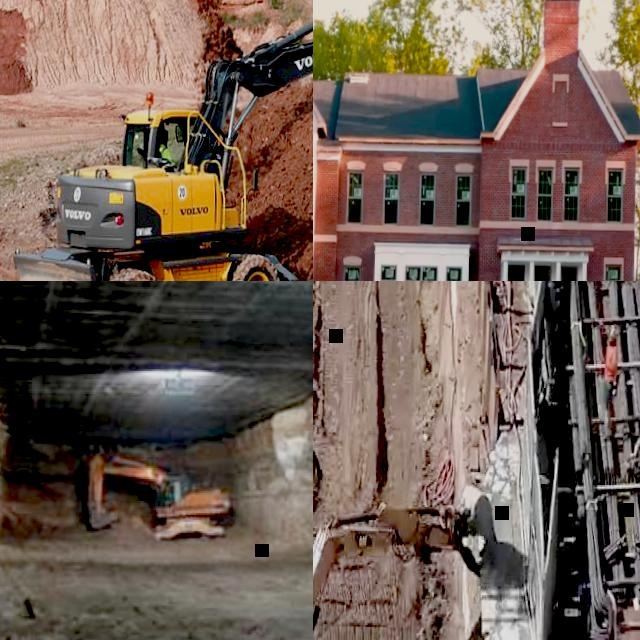Hardhat: (610, 326, 618, 338)
NO-Hardhat: (161, 131, 170, 140)
Person: (600, 324, 619, 420), (313, 435, 322, 532), (157, 131, 178, 166)
Safety Vest: (605, 342, 617, 378), (157, 146, 175, 165)
machinery: (13, 0, 313, 281), (313, 477, 499, 640), (85, 450, 236, 541)
vehicle: (547, 281, 640, 640)
